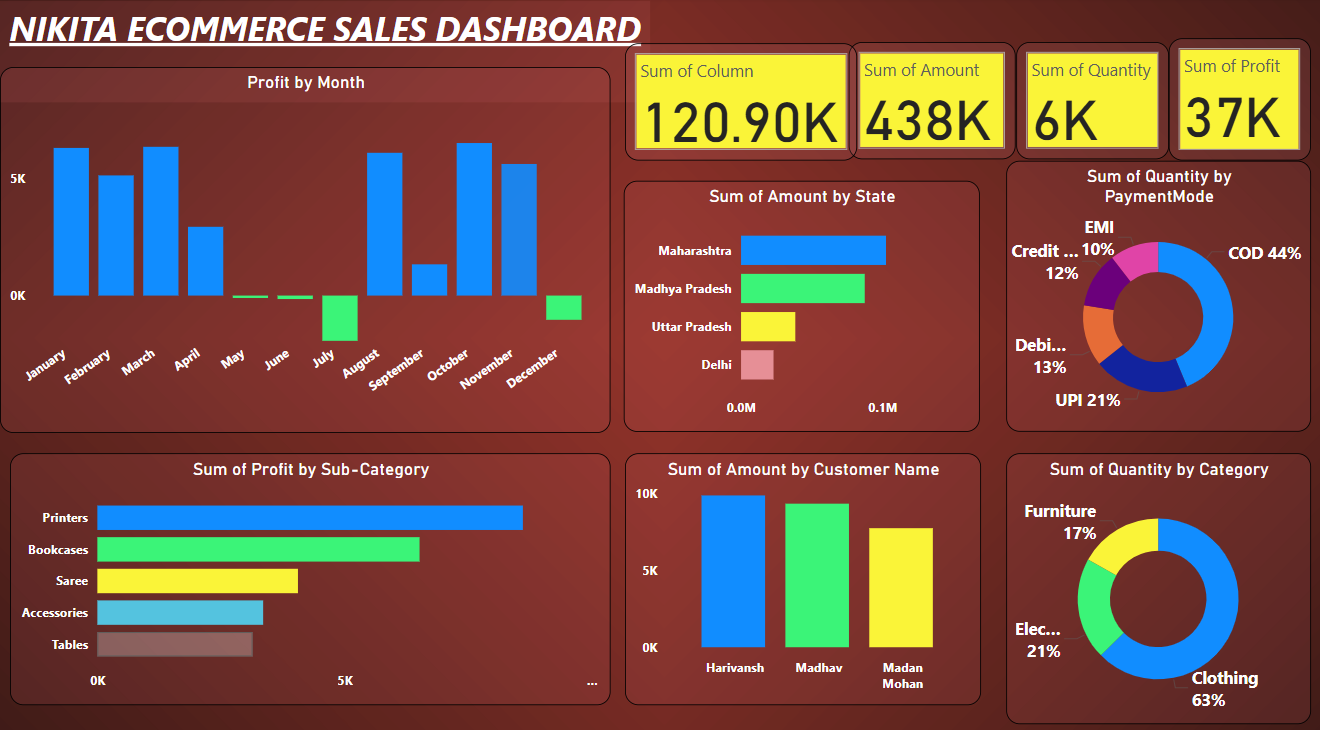

The dashboard page shown, as its layout file describes it:
{"tool":"powerbi","page":{"name":"Page 1","canvas":[1280,720],"ordinal":0},"visuals":[{"type":"textbox","box":[0,4.1,629.8,98.8],"z":0},{"type":"columnChart","title":" Profit by Month","fields":{"Y":["Sheet1.Profit"],"Category":["Orders.Order Date.Variation.Date Hierarchy.Month"]},"box":[0,67.2,591.4,354],"z":1000},{"type":"barChart","fields":{"Category":["Sheet1.Sub-Category"],"Y":["Sheet1.Profit"]},"box":[9.6,441.9,581.8,244.3],"z":2000},{"type":"donutChart","fields":{"Category":["Sheet1.Category"],"Y":["Sheet1.Quantity"]},"box":[974.3,441.9,295,262.1],"z":3000},{"type":"donutChart","fields":{"Category":["Sheet1.PaymentMode","Sheet1.Category"],"Y":["Sheet1.Quantity"]},"box":[974.3,159.2,295,262.1],"z":4000},{"type":"cardVisual","fields":{"Data":["Sheet1.Amount"]},"box":[822,43.9,161.9,113.9],"z":5000},{"type":"cardVisual","fields":{"Data":["Sheet1.Quantity"]},"box":[983.9,43.9,148.2,113.9],"z":6000},{"type":"cardVisual","fields":{"Data":["Sheet1.Profit"]},"box":[1132.1,39.8,137.2,118],"z":7000},{"type":"barChart","fields":{"Category":["Orders.State"],"Y":["Sheet1.Amount"]},"box":[603.8,178.4,344.4,242.9],"z":8000},{"type":"columnChart","fields":{"Category":["Orders.Customer Name"],"Y":["Sheet1.Amount"]},"box":[605.1,441.9,344.4,244.3],"z":9000},{"type":"cardVisual","fields":{"Data":["Sheet1.Column"]},"box":[605.1,45.3,225,113.9],"z":9001}]}

Visuals, with their boxes in screenshot pixels (x1, y1, x2, y2), scaled from the page's 1280x720 canvas onto the 1320x730 screenshot:
textbox: Rect(0, 4, 649, 104)
" Profit by Month" columnChart: Rect(0, 68, 610, 427)
barChart - Sheet1.Sub-Category x Sheet1.Profit: Rect(10, 448, 610, 696)
donutChart - Sheet1.Category x Sheet1.Quantity: Rect(1005, 448, 1309, 714)
donutChart - Sheet1.PaymentMode x Sheet1.Category: Rect(1005, 161, 1309, 427)
cardVisual - Sheet1.Amount: Rect(848, 45, 1015, 160)
cardVisual - Sheet1.Quantity: Rect(1015, 45, 1167, 160)
cardVisual - Sheet1.Profit: Rect(1167, 40, 1309, 160)
barChart - Orders.State x Sheet1.Amount: Rect(623, 181, 978, 427)
columnChart - Orders.Customer Name x Sheet1.Amount: Rect(624, 448, 979, 696)
cardVisual - Sheet1.Column: Rect(624, 46, 856, 161)
